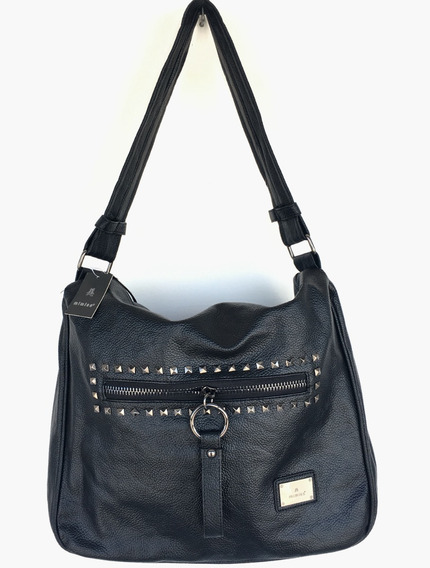cartera: (46, 1, 380, 566)
